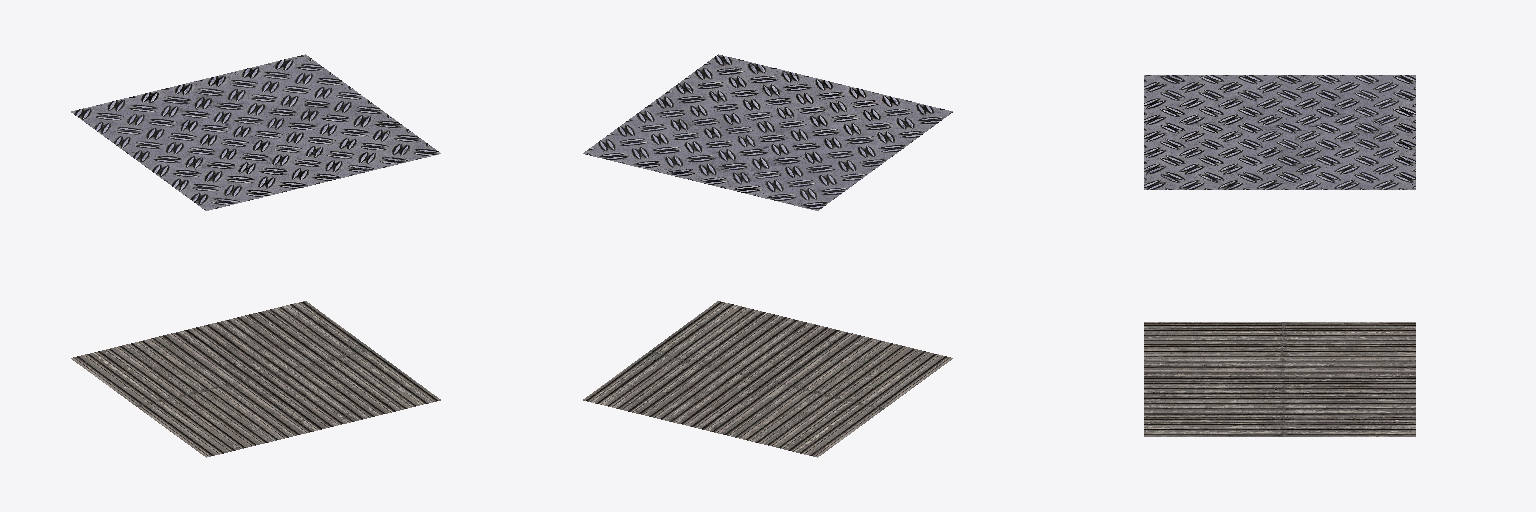
The picture shows the model from 3 angles: view 1: azimuth 30°, elevation 25°; view 2: azimuth 150°, elevation 25°; view 3: azimuth 270°, elevation 25°; orthographic projection.
Visible parts, largest first — view 1: DualThing; view 2: DualThing; view 3: DualThing.
Part boxes in pixels (x1,y1,x2,y2): DualThing: (71, 54, 440, 457); DualThing: (583, 54, 952, 457); DualThing: (1144, 75, 1415, 436).
Size of the model in its own units: 2 by 2 by 2.
2 materials, 2 textured.